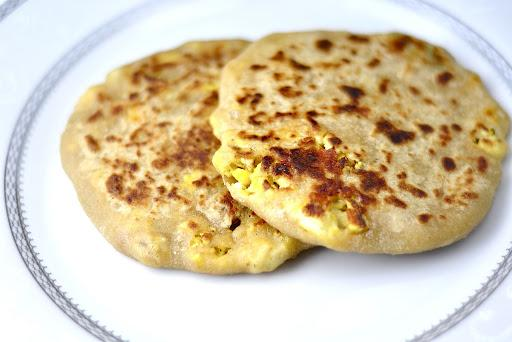paratha: (208, 31, 512, 250), (71, 38, 296, 276)
